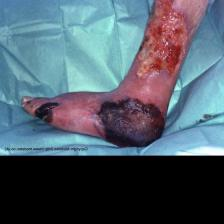Wound: (135, 0, 191, 79), (95, 99, 165, 148), (32, 99, 62, 127)
